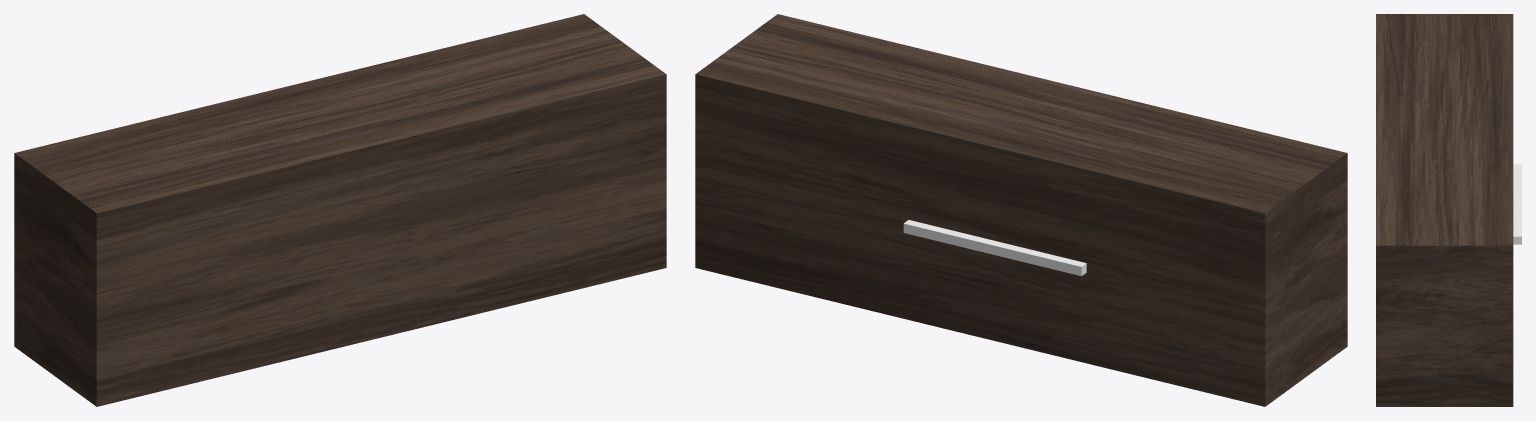
File: rack_1.obj
3 renders of one model, left to right at view 1: azimuth 30°, elevation 25°; view 2: azimuth 150°, elevation 25°; view 3: azimuth 270°, elevation 25°, orthographic. The views are drawn at different scales.
Parts seen in each view (by area): view 1: rack_1_Cube.028; view 2: rack_1_Cube.028, puxador_1_Cube.030; view 3: rack_1_Cube.028, puxador_1_Cube.030.
Part boxes in pixels (x1,y1,x2,y2): rack_1_Cube.028: [14, 14, 666, 406]; rack_1_Cube.028: [695, 14, 1347, 406]; puxador_1_Cube.030: [903, 220, 1086, 276]; rack_1_Cube.028: [1376, 14, 1513, 406]; puxador_1_Cube.030: [1513, 164, 1521, 244].
Bounding box in the file's own units: 4 × 1.3 × 1.06.
